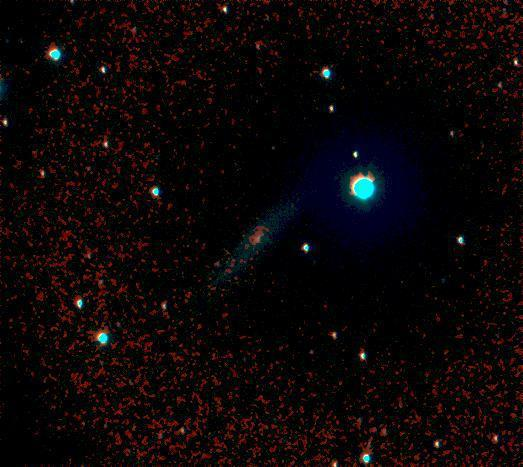star: (69, 407, 99, 437)
